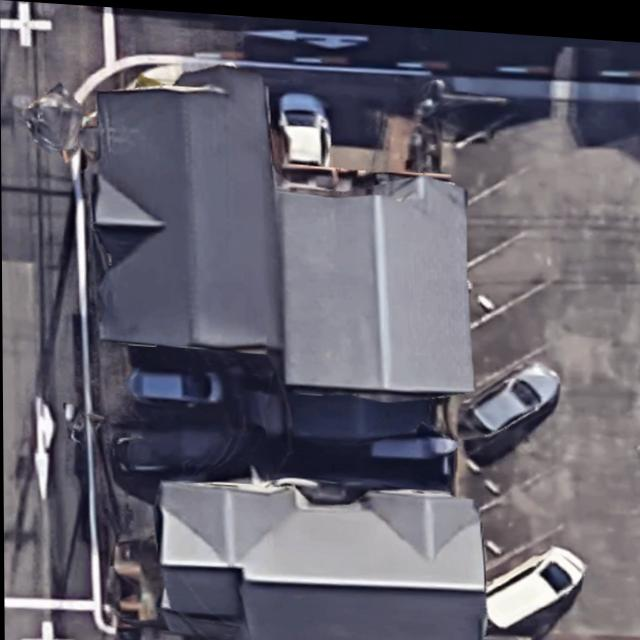Batiment: (94, 64, 280, 345), (158, 480, 484, 640), (279, 172, 472, 386)
